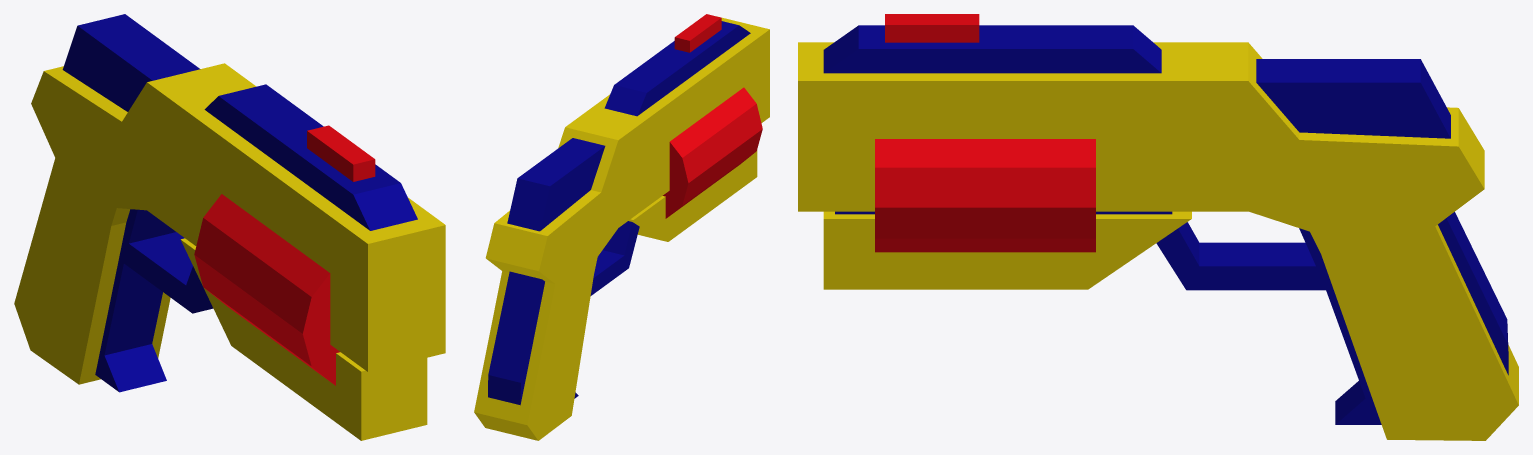
The model's file is Gun.fbx.
3 renders of one model, left to right at view 1: azimuth 30°, elevation 25°; view 2: azimuth 150°, elevation 25°; view 3: azimuth 270°, elevation 25°, orthographic. The views are drawn at different scales.
Visible parts, largest first — view 1: Cube, Cube.001, Cylinder, Cube.002; view 2: Cube, Cube.001, Cylinder, Cube.002; view 3: Cube, Cube.001, Cylinder, Cube.002.
Part boxes in pixels (bbox=[...]): Cube: bbox=[14, 63, 445, 440]; Cube.001: bbox=[62, 14, 417, 392]; Cylinder: bbox=[194, 194, 339, 385]; Cube.002: bbox=[307, 125, 375, 181]; Cube: bbox=[474, 16, 769, 440]; Cube.001: bbox=[488, 21, 750, 405]; Cylinder: bbox=[663, 87, 762, 218]; Cube.002: bbox=[674, 14, 721, 52]; Cube: bbox=[798, 42, 1518, 440]; Cube.001: bbox=[823, 25, 1508, 424]; Cylinder: bbox=[875, 139, 1095, 252]; Cube.002: bbox=[885, 14, 979, 42].
Size of the model in its own units: 92.71 by 428 by 264.
